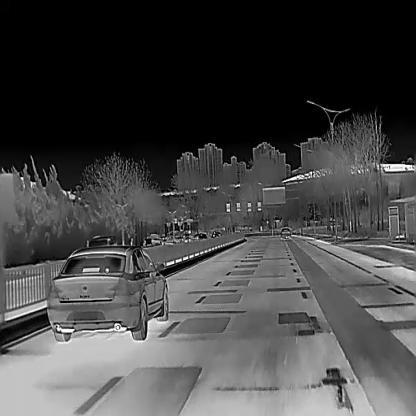car: (45, 244, 169, 341), (87, 234, 115, 246), (278, 226, 293, 240)
